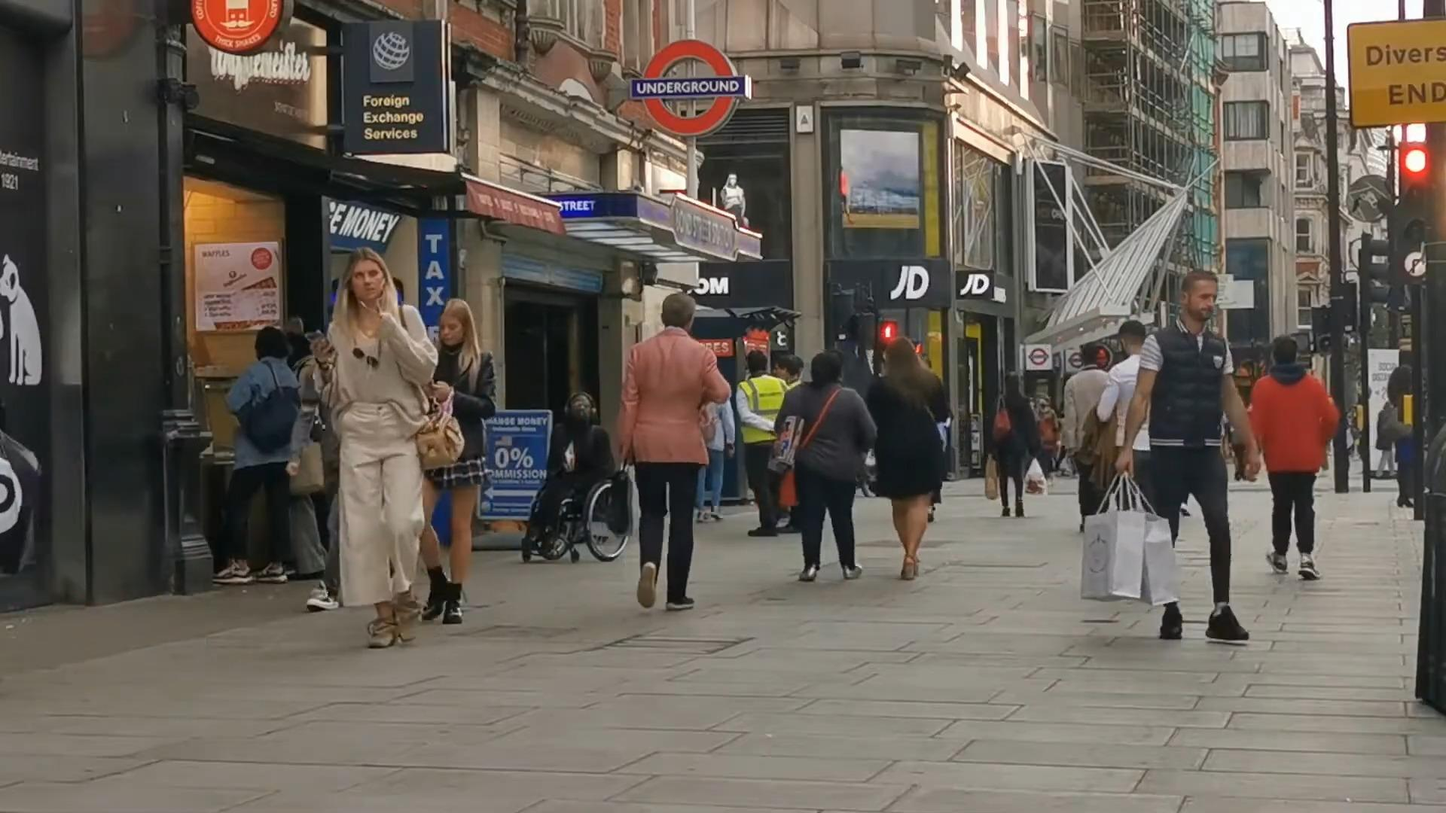no-helmet: (335, 247, 398, 303), (1180, 269, 1217, 324), (439, 298, 477, 349), (884, 337, 926, 378), (661, 291, 696, 333), (255, 325, 292, 364), (811, 348, 845, 384), (1118, 319, 1145, 359), (1272, 334, 1297, 365), (748, 349, 767, 376), (1082, 342, 1098, 365)
